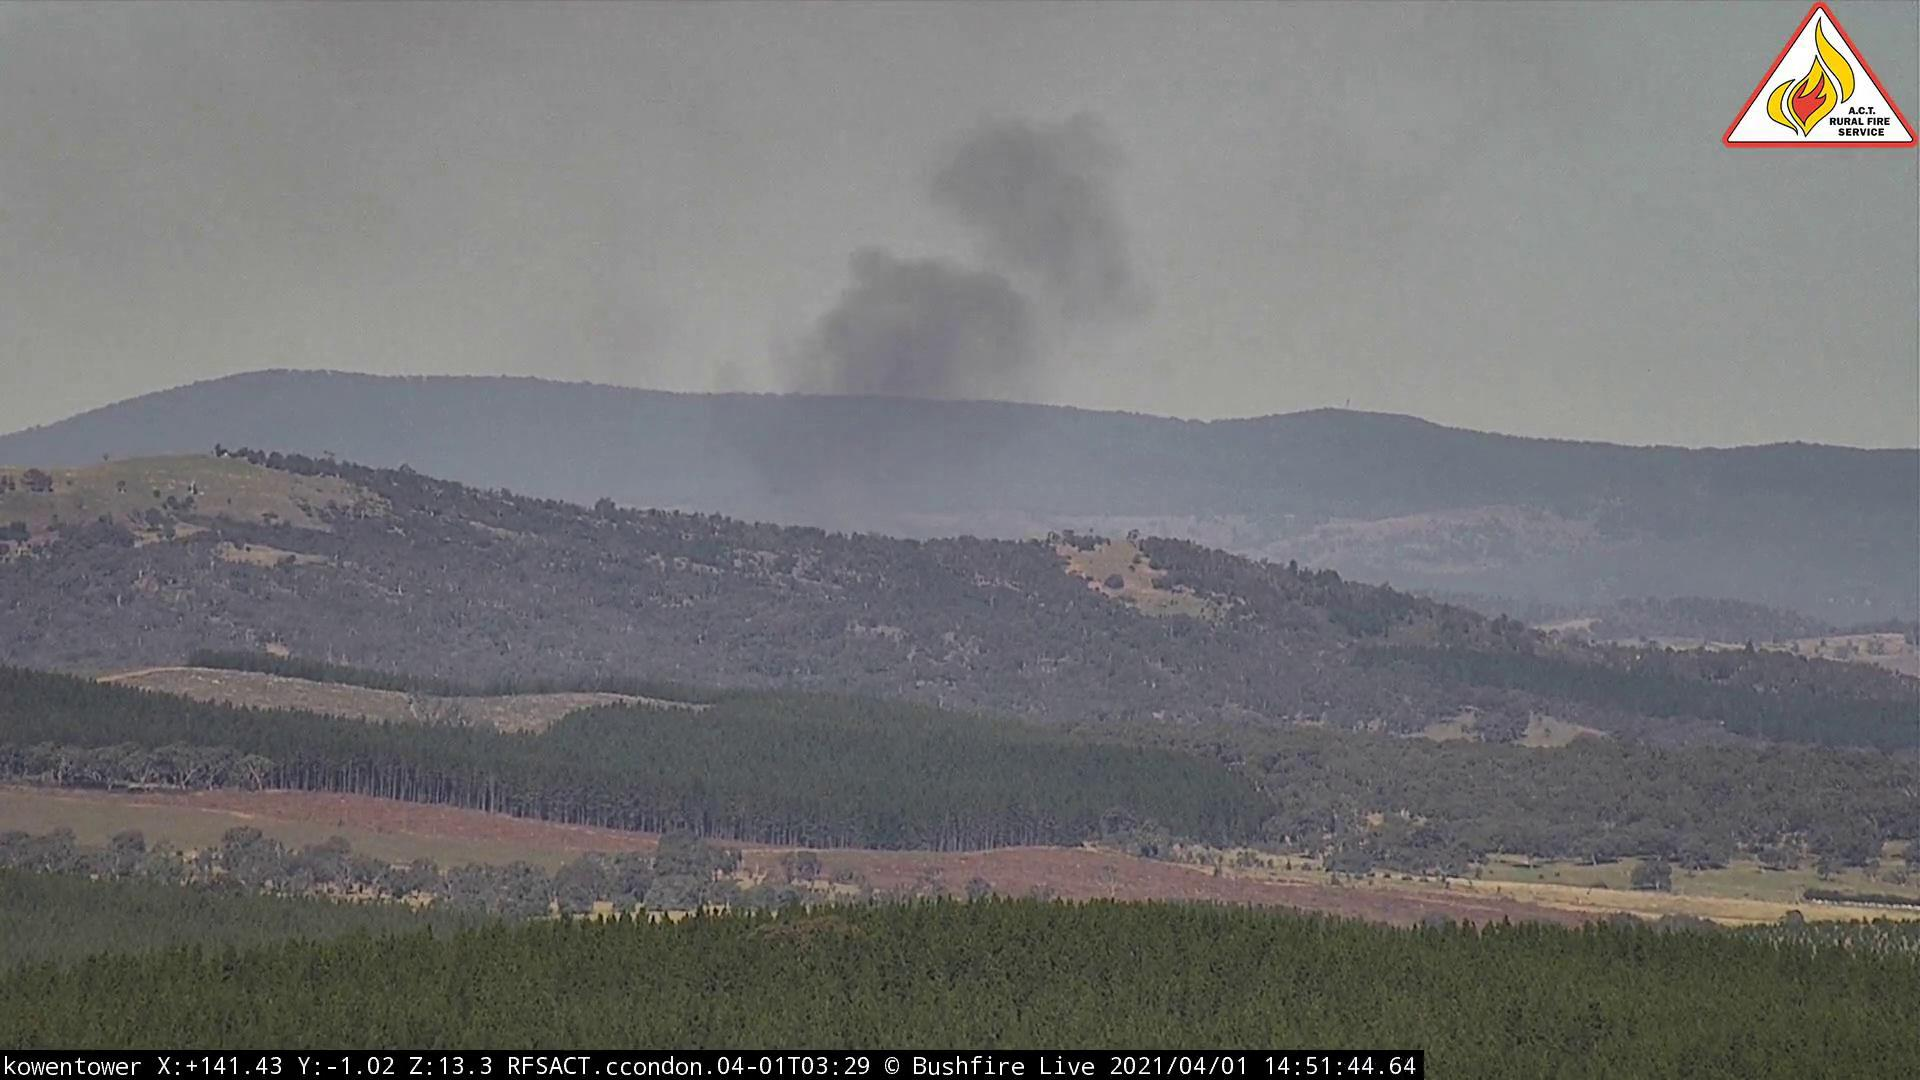instance_salient_object: (582, 65, 1204, 542)
